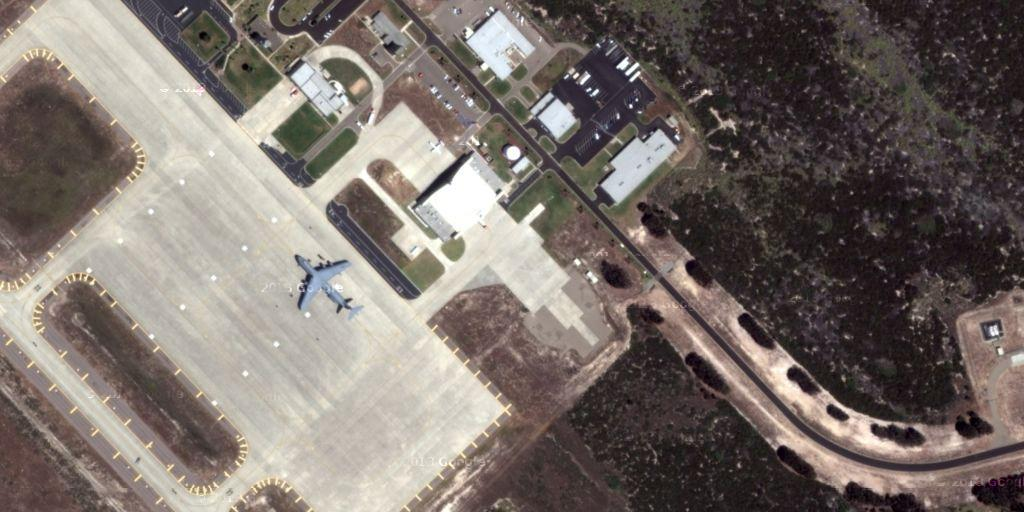KC-135: (291, 251, 367, 326)
